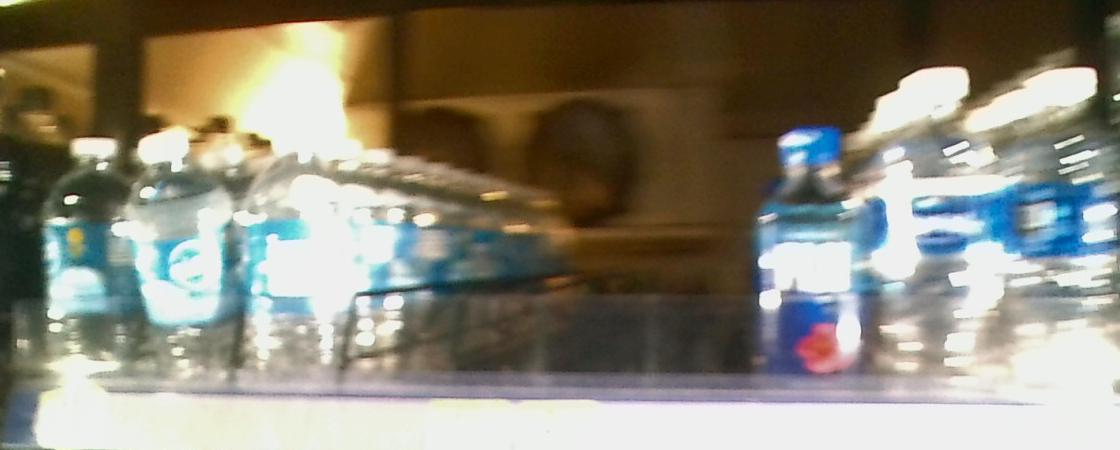bottle: (879, 65, 1004, 397), (1009, 68, 1114, 398), (754, 129, 865, 403), (242, 131, 348, 389), (134, 129, 234, 376), (39, 131, 130, 371)
